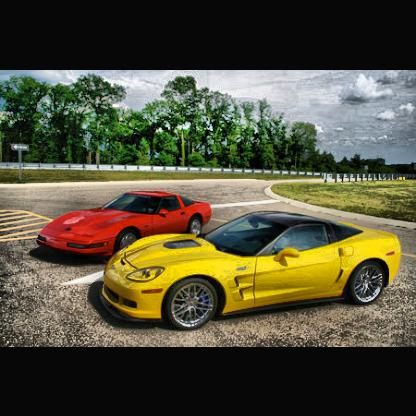Chevrolet Corvette ZR1 2012: (95, 208, 404, 333)
